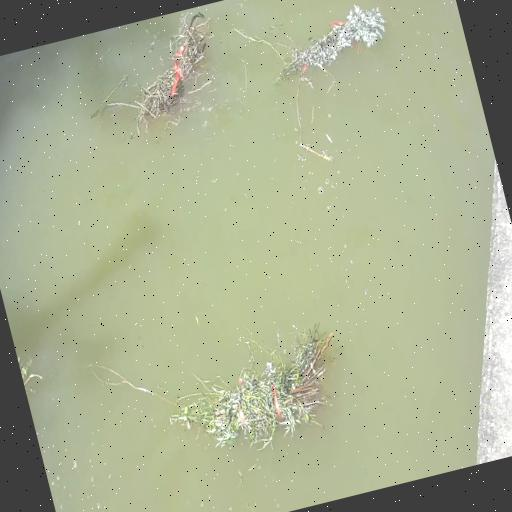twig: (156, 318, 350, 460), (96, 3, 237, 133), (253, 0, 398, 93)
